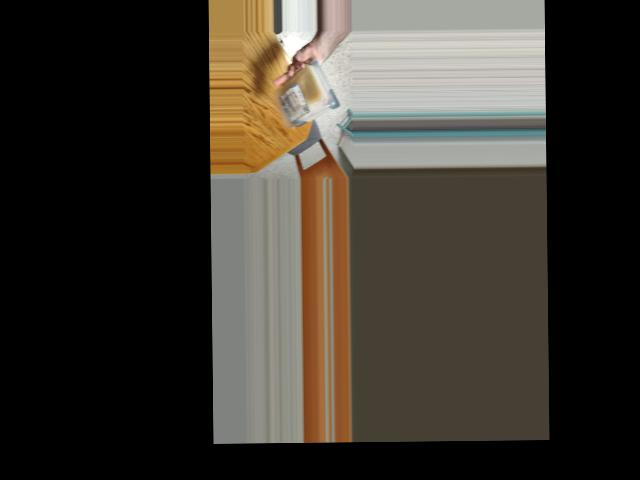cheese: (278, 64, 328, 125)
